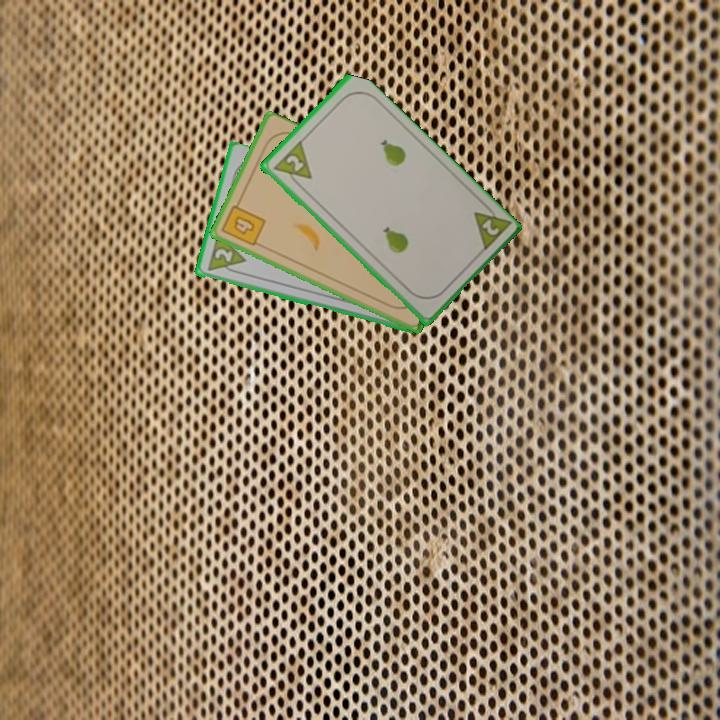2p: (469, 198, 513, 255), (269, 138, 315, 192), (203, 231, 248, 278)
4b: (218, 196, 269, 249)
